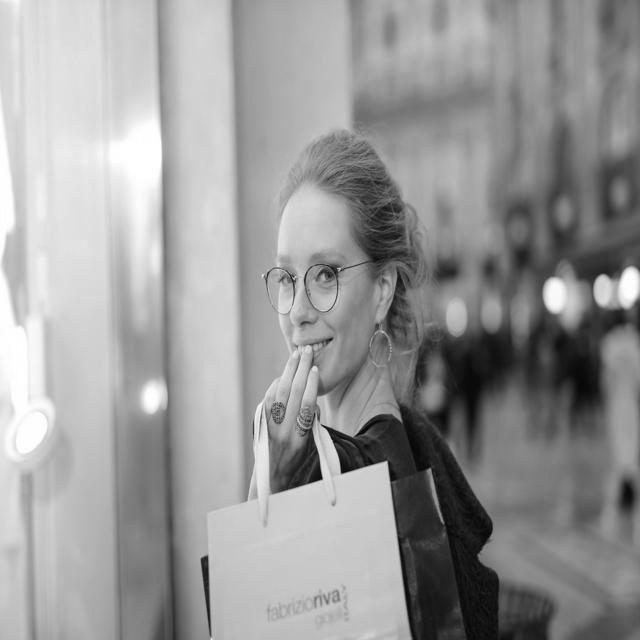Happiness: (270, 183, 377, 390)
